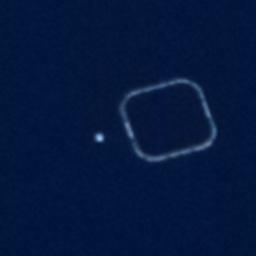square_bigger: (114, 73, 225, 170)
